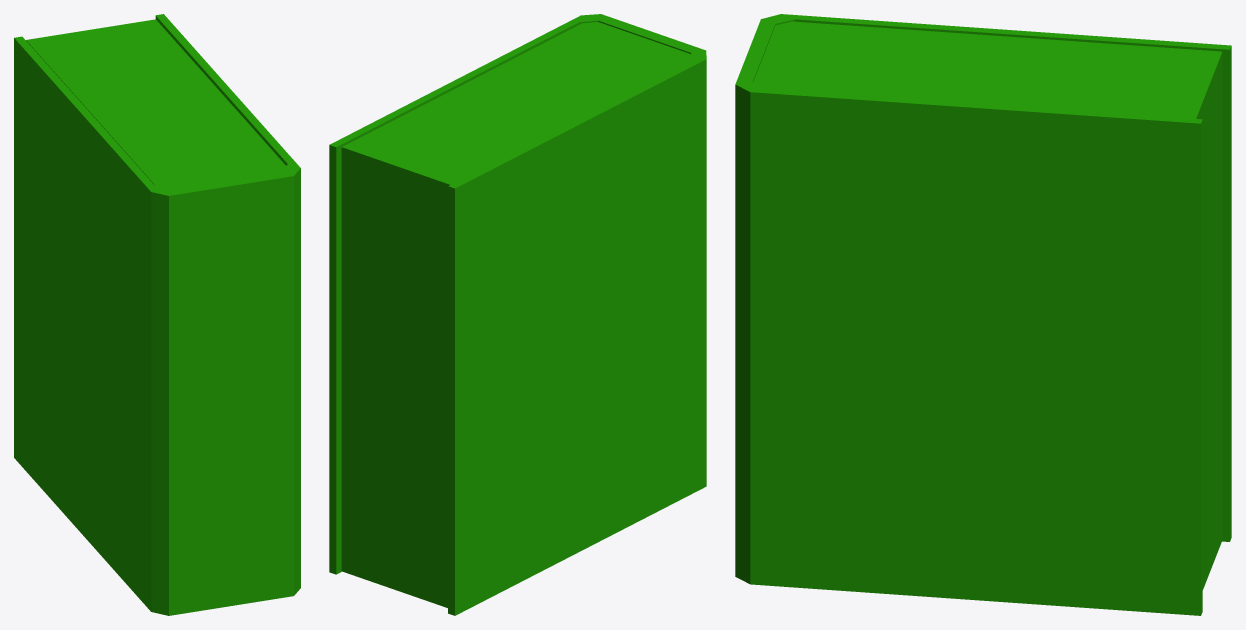
Rendered from book_1 1.fbx.
3 renders of one model, left to right at view 1: azimuth 30°, elevation 25°; view 2: azimuth 150°, elevation 25°; view 3: azimuth 270°, elevation 25°, orthographic. The views are drawn at different scales.
Parts seen in each view (by area): view 1: sketchfab_render:pCube69; view 2: sketchfab_render:pCube69; view 3: sketchfab_render:pCube69.
Part boxes in pixels (x1,y1,x2,y2): sketchfab_render:pCube69: (14,14,300,615); sketchfab_render:pCube69: (329,14,706,615); sketchfab_render:pCube69: (735,14,1231,615).
Bounding box in the file's own units: 155 × 324 × 296.
